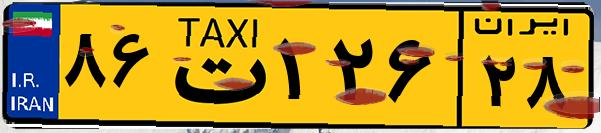1: (270, 28, 330, 110)
2: (330, 28, 385, 110), (475, 38, 525, 113)
6: (385, 28, 445, 110), (110, 28, 158, 98)
8: (57, 26, 110, 100), (525, 38, 570, 115)
ت: (158, 12, 270, 120)
